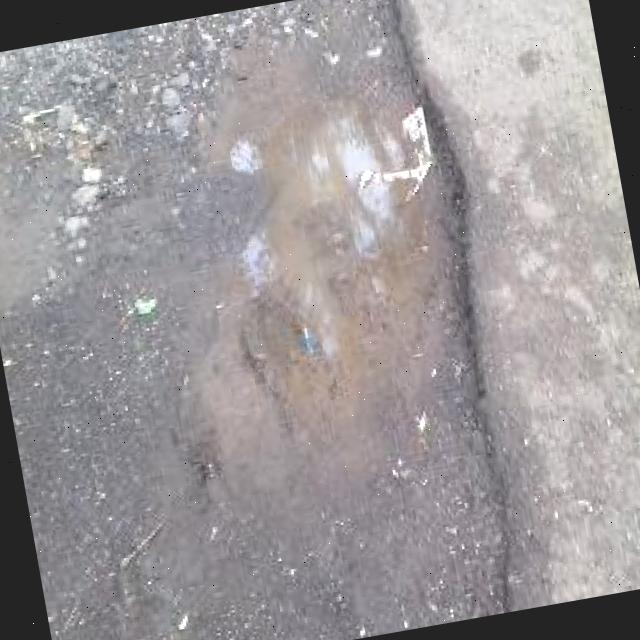stagnation: (77, 51, 480, 572)
